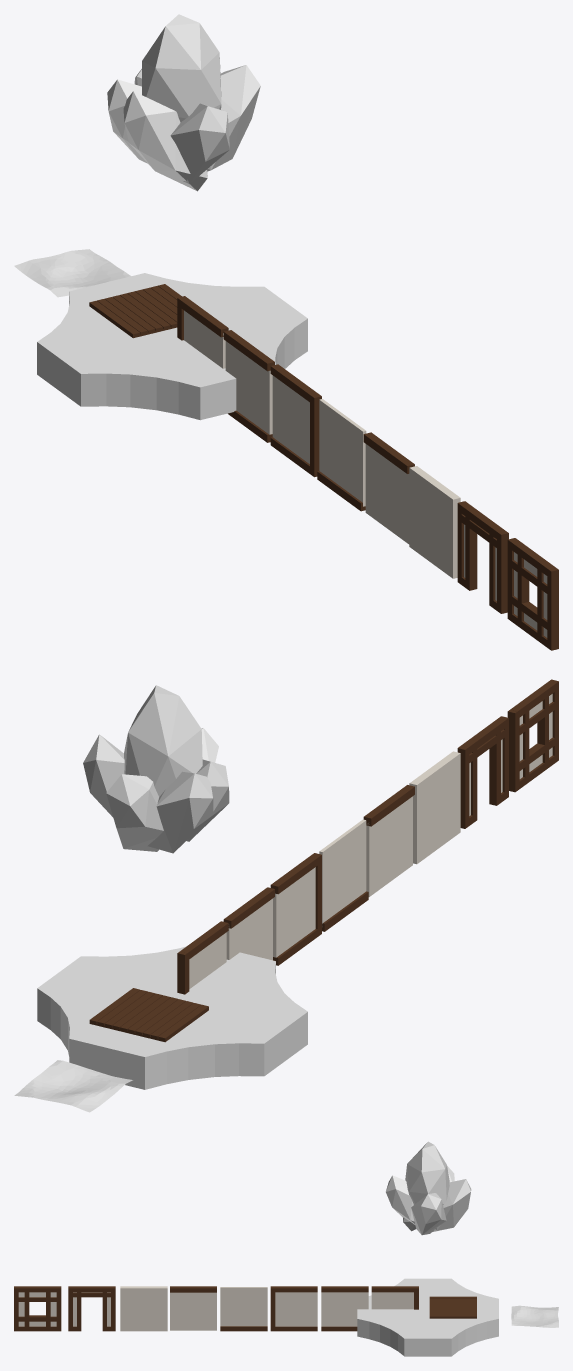
Rendered from PortfolioBuilding.fbx.
3 renders of one model, top to bottom at view 1: azimuth 30°, elevation 25°; view 2: azimuth 150°, elevation 25°; view 3: azimuth 270°, elevation 25°, orthographic. The views are drawn at different scales.
Visible parts, largest first — view 1: Plane, Crystaux, WallWindows, Wall.005, Wall.002, Wall.004, Wall.003, Wall, WallDoor, Floor, Plane_00, Wall.001; view 2: Plane, Crystaux, Wall.002, WallWindows, Wall.005, Wall.003, Wall.004, Floor, WallDoor, Plane_00, Wall, Wall.001; view 3: Plane, Crystaux, Wall.005, Wall.002, Wall.004, Wall.003, WallWindows, Wall, WallDoor, Wall.001, Floor, Plane_00.
Boxes of the visible parts, x1,y1,x2,y2 form: Plane: [37, 273, 307, 420]; Crystaux: [107, 14, 260, 191]; WallWindows: [507, 538, 558, 650]; Wall.005: [409, 466, 460, 578]; Wall.002: [270, 364, 321, 477]; Wall.004: [317, 399, 366, 511]; Wall.003: [363, 432, 414, 544]; Wall: [223, 330, 274, 442]; WallDoor: [457, 501, 508, 613]; Floor: [89, 284, 181, 338]; Plane_00: [14, 249, 130, 297]; Wall.001: [177, 296, 228, 368]; Plane: [37, 946, 307, 1089]; Crystaux: [83, 685, 229, 853]; Wall.002: [270, 853, 321, 965]; WallWindows: [507, 679, 558, 792]; Wall.005: [409, 751, 460, 864]; Wall.003: [363, 785, 414, 896]; Wall.004: [319, 819, 368, 931]; Floor: [89, 988, 208, 1042]; WallDoor: [457, 716, 508, 828]; Plane_00: [14, 1060, 132, 1112]; Wall: [223, 887, 274, 960]; Wall.001: [177, 921, 228, 994]; Plane: [357, 1278, 498, 1356]; Crystaux: [386, 1141, 471, 1235]; Wall.005: [120, 1286, 167, 1331]; Wall.002: [270, 1286, 317, 1331]; Wall.004: [220, 1287, 267, 1331]; Wall.003: [170, 1286, 216, 1330]; WallWindows: [14, 1286, 61, 1331]; Wall: [321, 1286, 368, 1331]; WallDoor: [68, 1286, 115, 1331]; Wall.001: [371, 1286, 418, 1309]; Floor: [429, 1296, 476, 1318]; Plane_00: [511, 1305, 558, 1327].
Size of the model in its own units: 600 by 879 by 2304.
